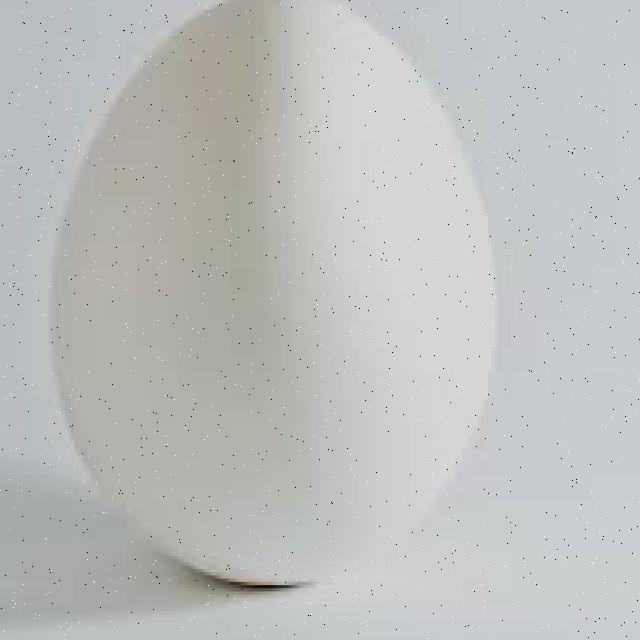White Egg: (42, 0, 517, 598)
